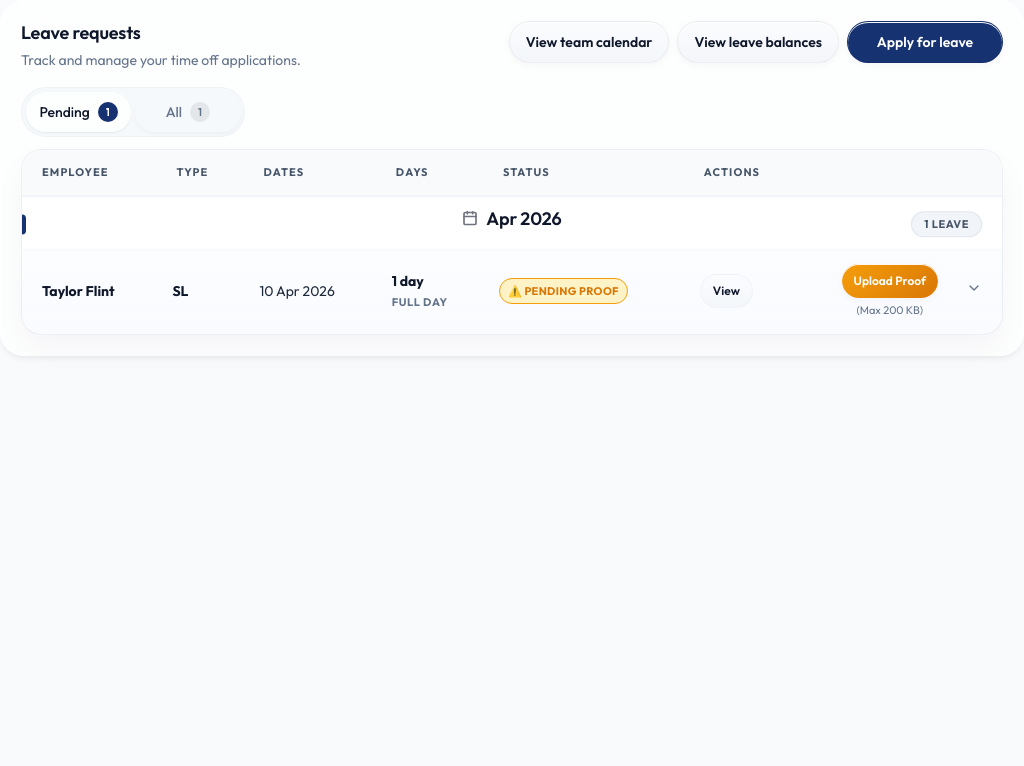
LeavesPage › shows medical proof actions for approved long sick leave
Expected: the heading "Leave requests" is shown, [21,21,141,44]
Step 1. Click the button "All 1" → click(188, 112), box [135,92,241,132]
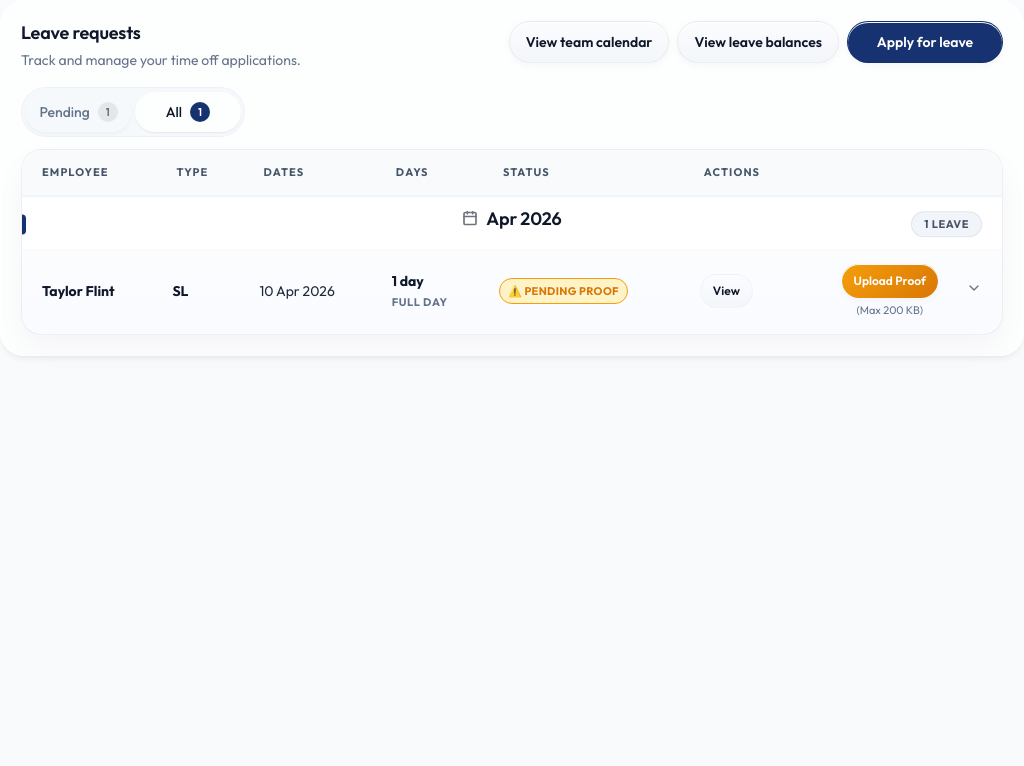
Step 2. Click the button "View" → click(726, 291), box [700,274,753,308]
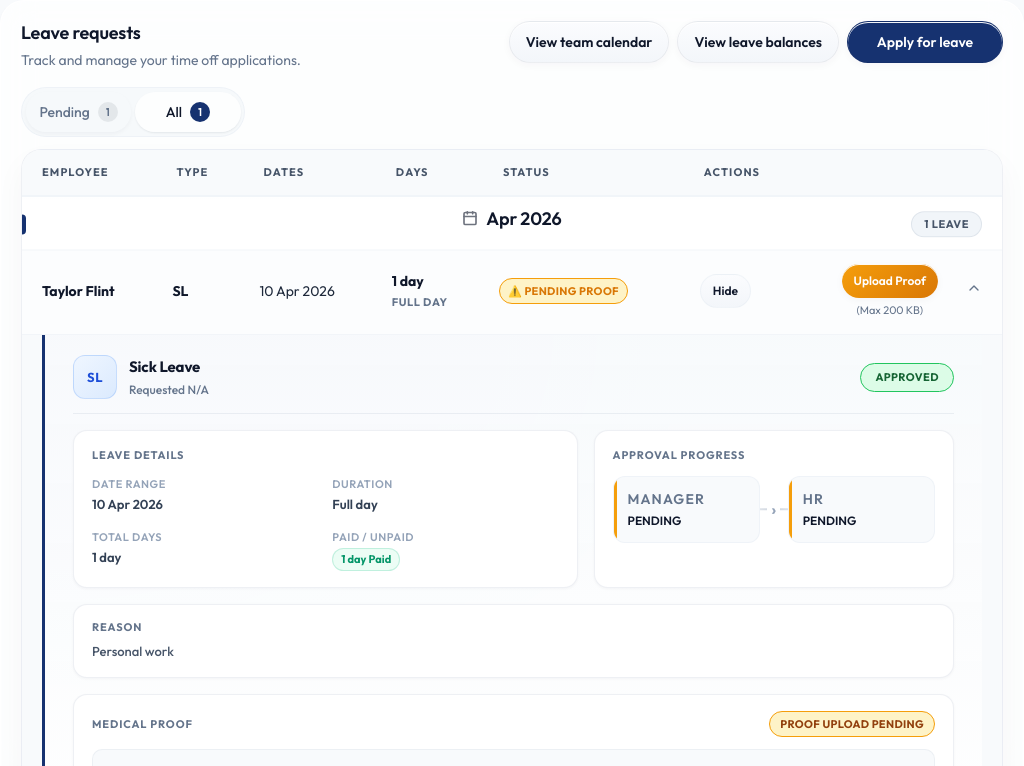
Expected: the button "Upload Proof" is shown, [842,264,938,298]
Expected: the text "Proof upload pending" is shown, [769,711,935,737]
